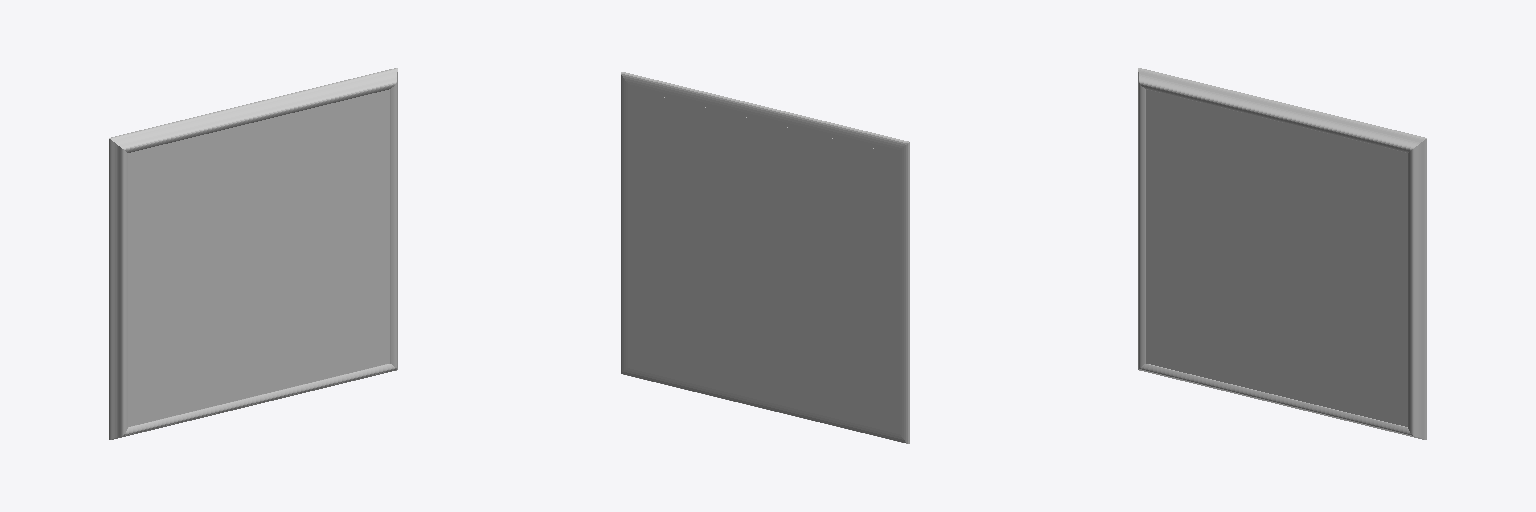
The model's file is board.obj.
3 views of the same model, side by side, from view 1: azimuth 30°, elevation 25°; view 2: azimuth 150°, elevation 25°; view 3: azimuth 330°, elevation 25° (orthographic).
Visible parts, largest first — view 1: Mesh.001_Mesh.021_Desk, Mesh_Mesh.014_Line01; view 2: Mesh.001_Mesh.021_Desk, Mesh_Mesh.014_Line01; view 3: Mesh.001_Mesh.021_Desk, Mesh_Mesh.014_Line01.
Boxes of the visible parts, x1=… form: Mesh.001_Mesh.021_Desk: x1=128, y1=89, x2=389, y2=426; Mesh_Mesh.014_Line01: x1=109, y1=68, x2=397, y2=439; Mesh.001_Mesh.021_Desk: x1=633, y1=90, x2=894, y2=427; Mesh_Mesh.014_Line01: x1=621, y1=72, x2=909, y2=443; Mesh.001_Mesh.021_Desk: x1=1146, y1=89, x2=1407, y2=426; Mesh_Mesh.014_Line01: x1=1138, y1=68, x2=1426, y2=439.
Size of the model in its own units: 446 by 446 by 22.7.